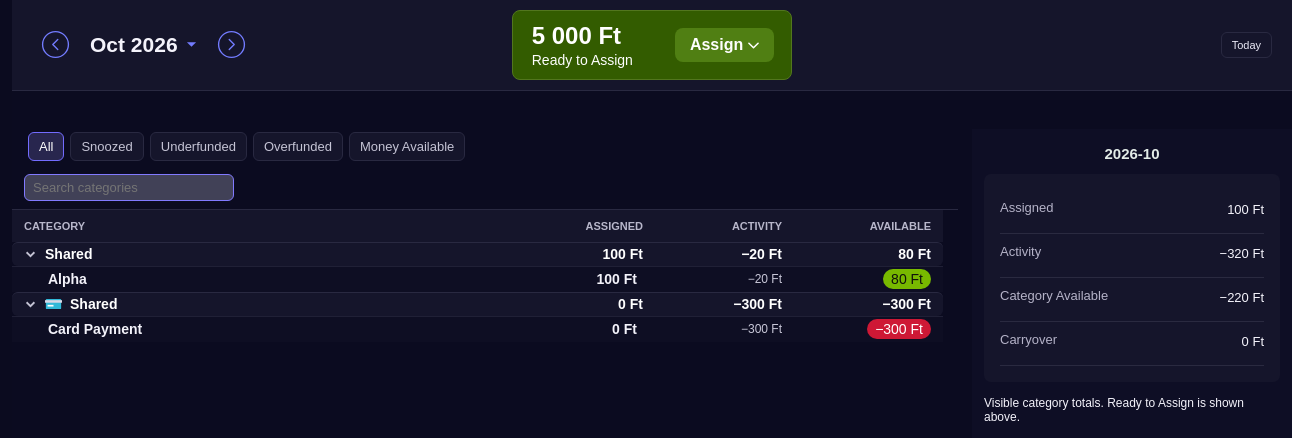
Scenario: collapses a category group without writing Plan data
What coordinates should you click on to do the following:
click the button "Shared 100 Ft −20 Ft 80 Ft"
I would click on:
 (69, 254)
Its box is [12,242,943,266].
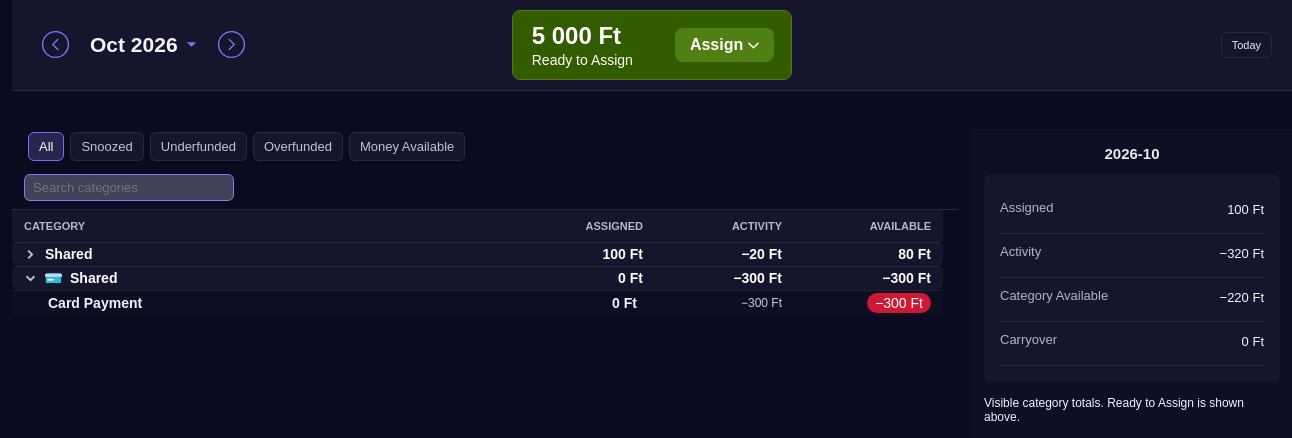
Expected: the text "Card Payment" is shown, [48,295,142,311]
Now the text "Alpha 100 Ft −20 Ft 80 Ft" is gone
Now the button "Shared 100 Ft −20 Ft 80 Ft" is collapsed, box [12,242,943,266]
